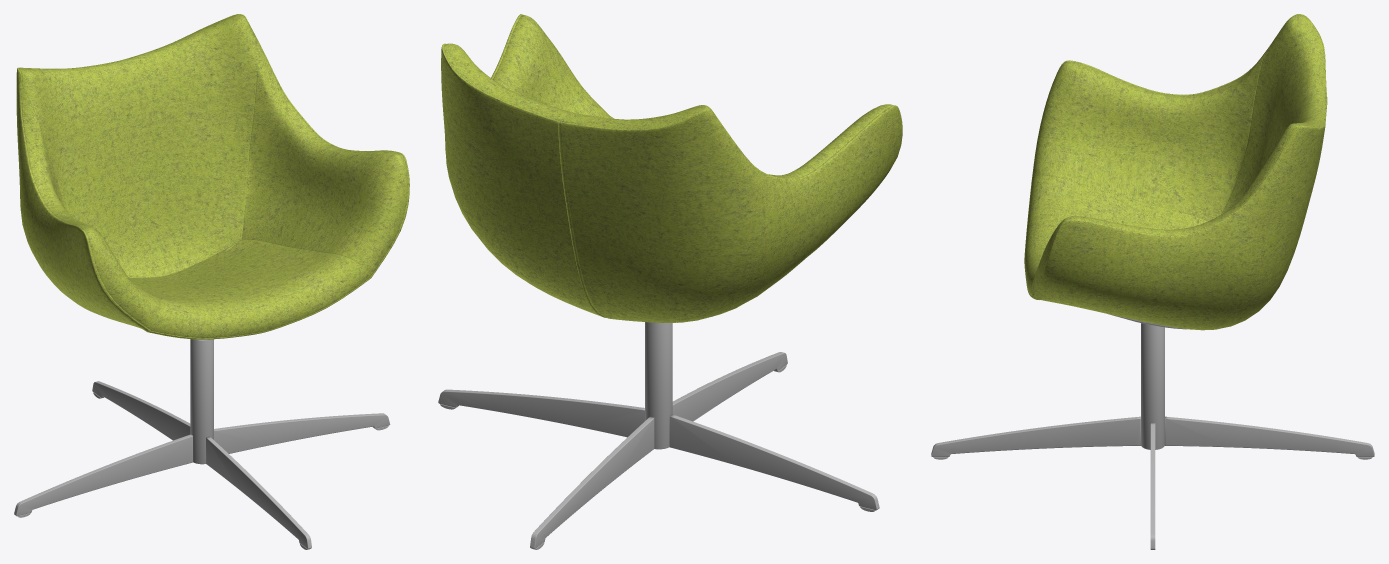
The model's file is Armchair 3.obj.
The picture shows the model from 3 angles, left to right: view 1: azimuth 30°, elevation 25°; view 2: azimuth 150°, elevation 25°; view 3: azimuth 270°, elevation 25°; orthographic projection. The views are drawn at different scales.
Parts seen in each view (by area): view 1: basket_chair01_02, basket_chair01_01; view 2: basket_chair01_02, basket_chair01_01; view 3: basket_chair01_02, basket_chair01_01.
Part boxes in pixels (x1,y1,x2,y2): basket_chair01_02: (16, 14, 409, 339); basket_chair01_01: (14, 339, 390, 549); basket_chair01_02: (441, 14, 902, 322); basket_chair01_01: (438, 322, 879, 549); basket_chair01_02: (1024, 14, 1327, 330); basket_chair01_01: (931, 314, 1374, 549).
Bounding box in the file's own units: 837 × 809 × 837.
